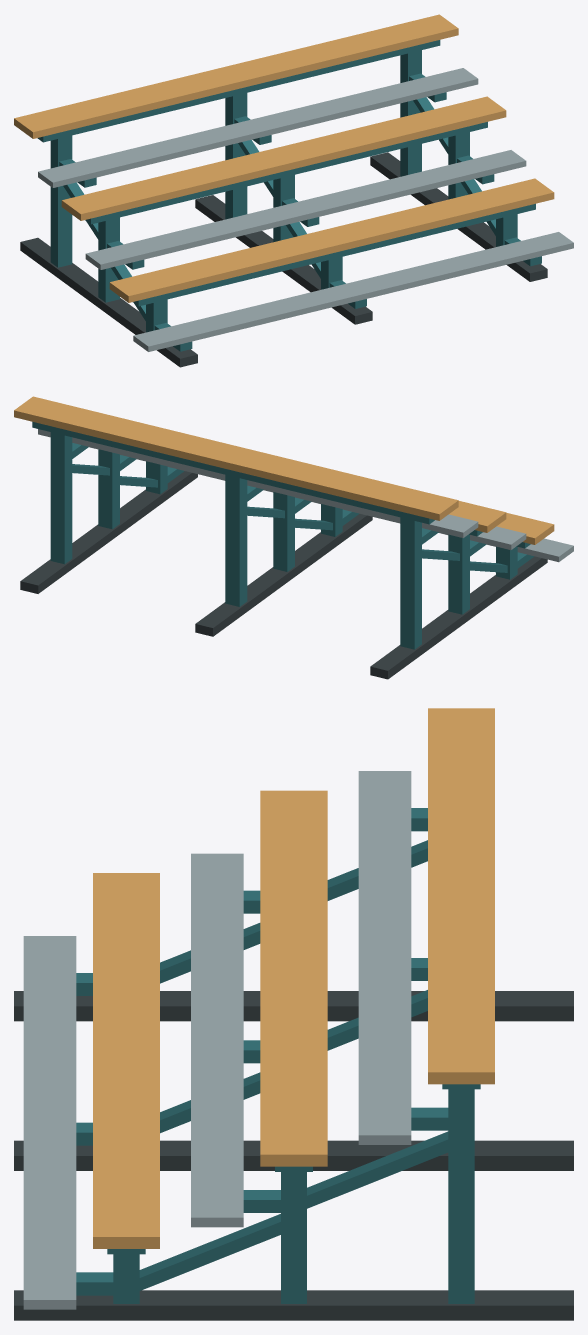
3 renders of one model, top to bottom at view 1: azimuth 30°, elevation 25°; view 2: azimuth 150°, elevation 25°; view 3: azimuth 270°, elevation 25°, orthographic. The views are drawn at different scales.
Visible parts, largest first — view 1: Row_0_SeatBoard, Row_1_SeatBoard, Row_2_SeatBoard, Row_1_Footboard, Row_2_Footboard, Row_0_Footboard, Frame_0_GroundRunner, Row_2_ContinuousSeatBeam, Row_1_ContinuousSeatBeam, Row_0_ContinuousSeatBeam, Frame_0_Row_2_Upright, Frame_1_GroundRunner (+9 smaller); view 2: Row_2_SeatBoard, Frame_0_GroundRunner, Frame_1_GroundRunner, Frame_2_GroundRunner, Frame_1_Row_2_Upright, Frame_2_Row_2_Upright, Frame_0_Row_2_Upright, Row_2_Footboard, Row_2_ContinuousSeatBeam, Frame_0_Row_1_Upright, Frame_1_Row_1_Upright, Frame_2_Row_1_Upright (+8 smaller); view 3: Row_1_SeatBoard, Row_2_SeatBoard, Row_0_SeatBoard, Row_0_Footboard, Row_2_Footboard, Row_1_Footboard, Frame_2_GroundRunner, Frame_1_GroundRunner, Frame_0_GroundRunner, Frame_2_Row_2_Upright, Frame_2_Row_1_Upright, Frame_2_Bay_1_Diagonal (+9 smaller).
Part boxes in pixels (<box>): Row_0_SeatBoard: <box>109,178,554,302</box>; Row_1_SeatBoard: <box>61,96,506,220</box>; Row_2_SeatBoard: <box>14,14,458,138</box>; Row_1_Footboard: <box>85,150,526,269</box>; Row_2_Footboard: <box>38,68,478,187</box>; Row_0_Footboard: <box>133,232,573,351</box>; Frame_0_GroundRunner: <box>20,237,197,367</box>; Row_2_ContinuousSeatBeam: <box>37,40,440,142</box>; Row_1_ContinuousSeatBeam: <box>85,122,487,224</box>; Row_0_ContinuousSeatBeam: <box>133,203,535,306</box>; Frame_0_Row_2_Upright: <box>50,135,72,267</box>; Frame_1_GroundRunner: <box>195,195,372,324</box>; Row_2_SeatBoard: <box>14,396,458,520</box>; Frame_0_GroundRunner: <box>370,556,547,679</box>; Frame_1_GroundRunner: <box>195,514,372,636</box>; Frame_2_GroundRunner: <box>20,471,197,593</box>; Frame_1_Row_2_Upright: <box>225,474,247,606</box>; Frame_2_Row_2_Upright: <box>50,432,72,564</box>; Frame_0_Row_2_Upright: <box>400,517,421,649</box>; Row_2_Footboard: <box>38,429,478,537</box>; Row_2_ContinuousSeatBeam: <box>32,421,434,524</box>; Frame_0_Row_1_Upright: <box>448,534,469,614</box>; Frame_1_Row_1_Upright: <box>273,492,294,571</box>; Frame_2_Row_1_Upright: <box>98,449,119,529</box>; Row_1_SeatBoard: <box>260,790,327,1166</box>; Row_2_SeatBoard: <box>428,708,494,1084</box>; Row_0_SeatBoard: <box>93,873,159,1248</box>; Row_0_Footboard: <box>23,936,76,1309</box>; Row_2_Footboard: <box>358,771,411,1144</box>; Row_1_Footboard: <box>191,853,243,1227</box>; Frame_2_GroundRunner: <box>14,1290,573,1320</box>; Frame_1_GroundRunner: <box>14,1140,573,1170</box>; Frame_0_GroundRunner: <box>14,991,573,1021</box>; Frame_2_Row_2_Upright: <box>448,1089,474,1303</box>; Frame_2_Row_1_Upright: <box>281,1172,306,1303</box>; Frame_2_Bay_1_Diagonal: <box>307,1131,448,1208</box>.
Bounding box in the file's own units: 3.6 × 1.26 × 2.34.
